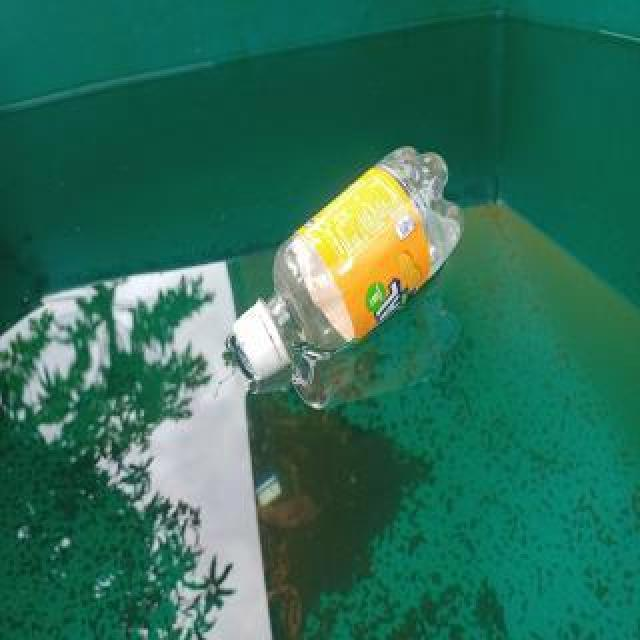bottle: (232, 143, 464, 383)
